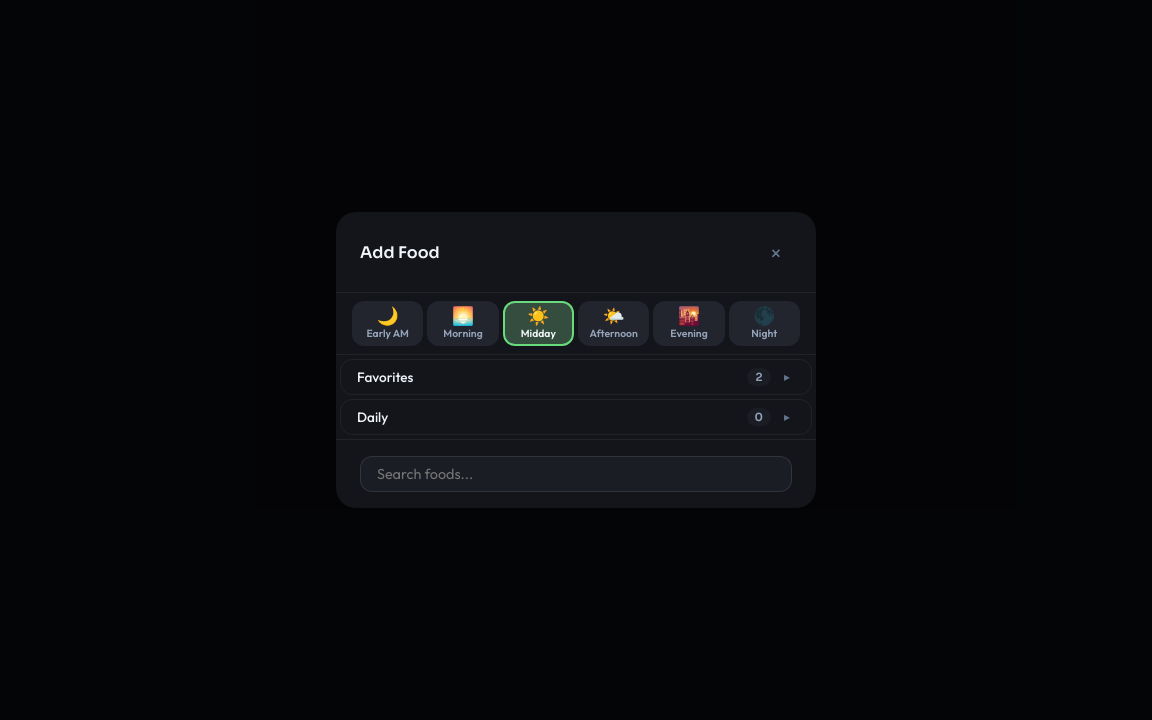
it: AddFoodModal › displays food list from API in expanded card
Click the text "Favorites" at (385, 377), box [357,368,414,386]
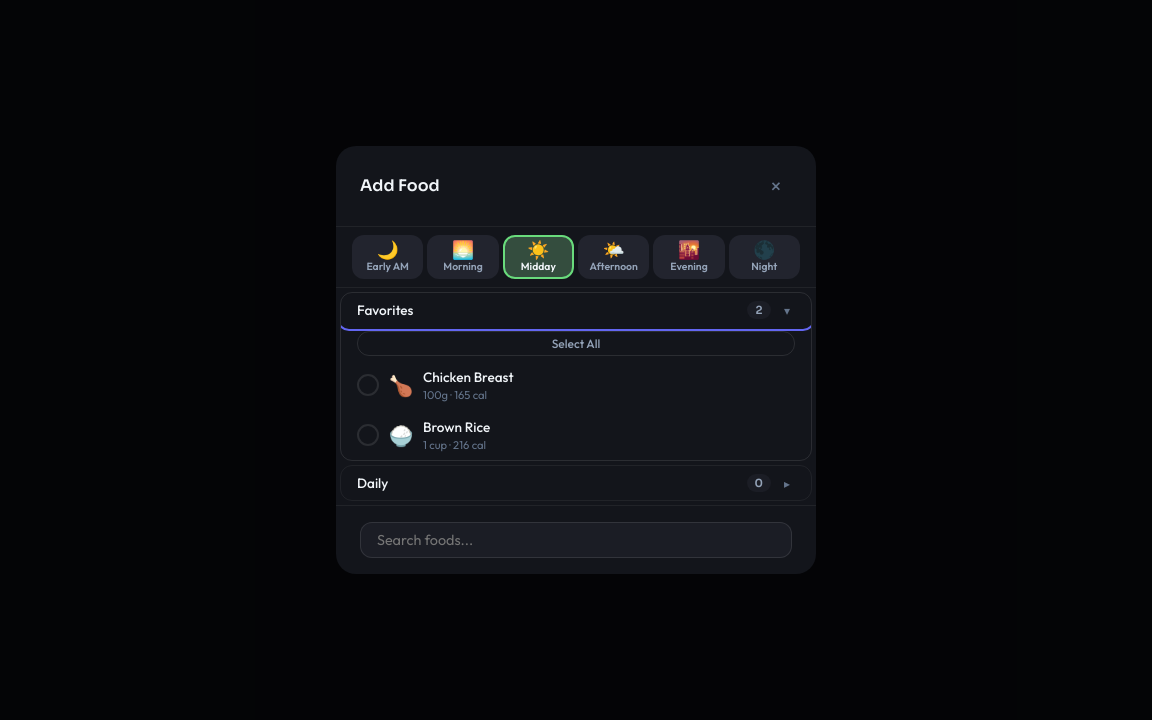
Check: the text "Chicken Breast" is shown, box [423,368,514,386]
Check: the text "Brown Rice" is shown, box [423,418,490,436]
